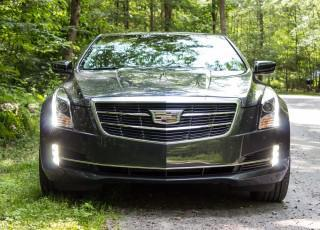cadillac: (146, 105, 186, 129)
